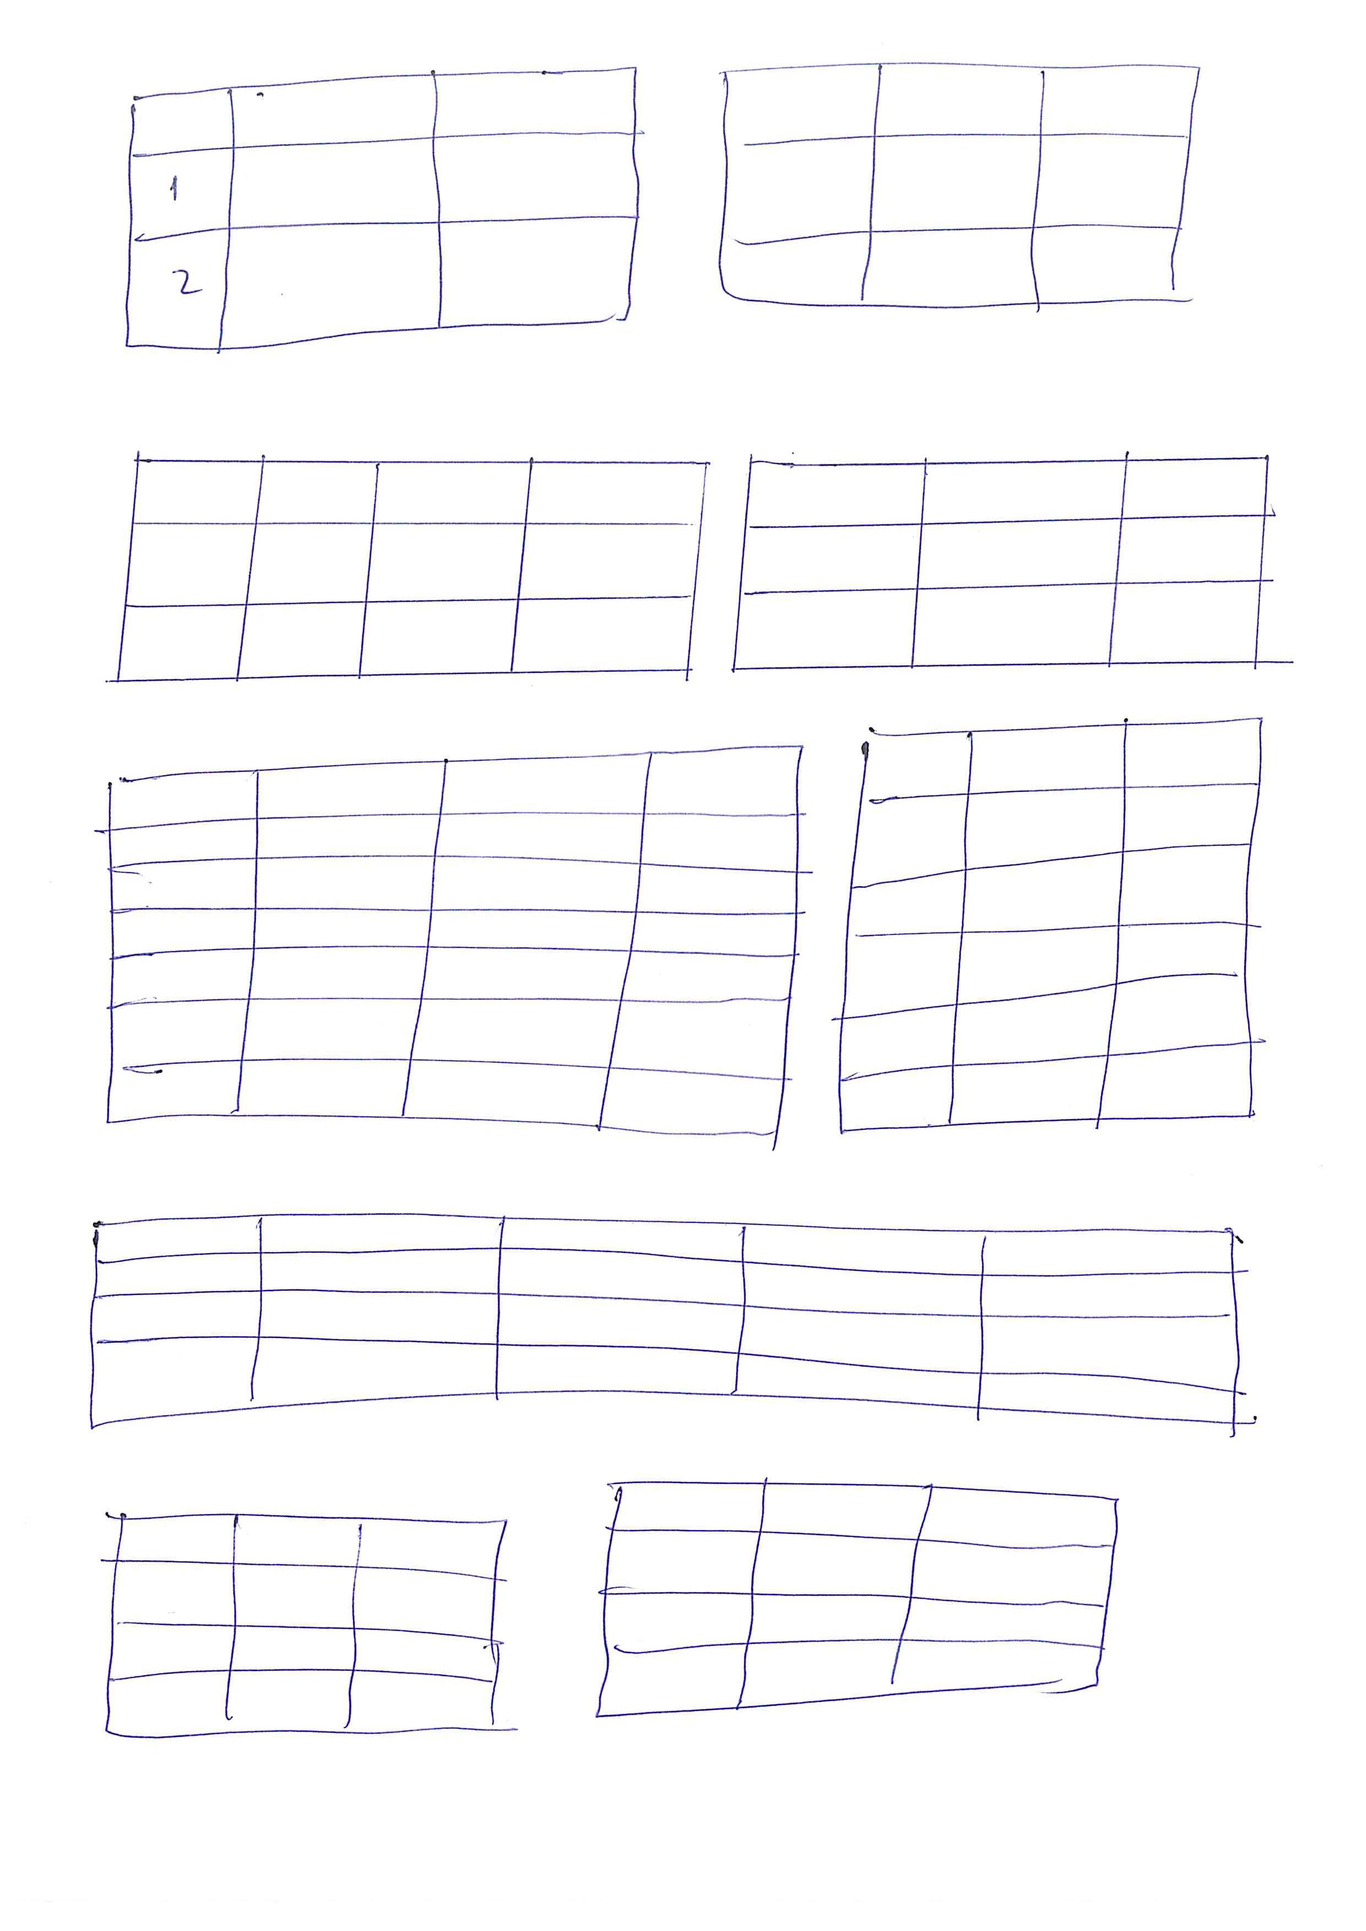Table: (98, 738, 803, 1141), (83, 1214, 1242, 1439), (829, 713, 1265, 1138), (118, 62, 645, 353), (106, 452, 713, 688), (588, 1476, 1124, 1723), (724, 452, 1274, 682), (710, 59, 1200, 312), (101, 1505, 514, 1743)
